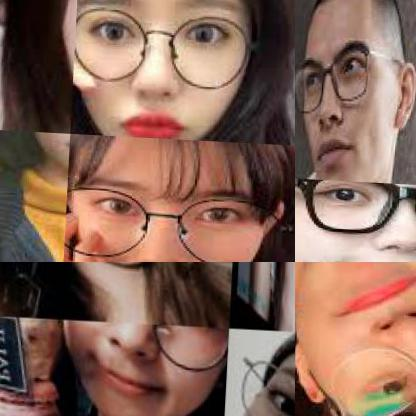Glasses: (42, 318, 228, 381), (223, 346, 294, 415)
glasses: (63, 180, 294, 261), (73, 11, 253, 84), (320, 288, 415, 415), (295, 177, 415, 241), (295, 48, 370, 117)
